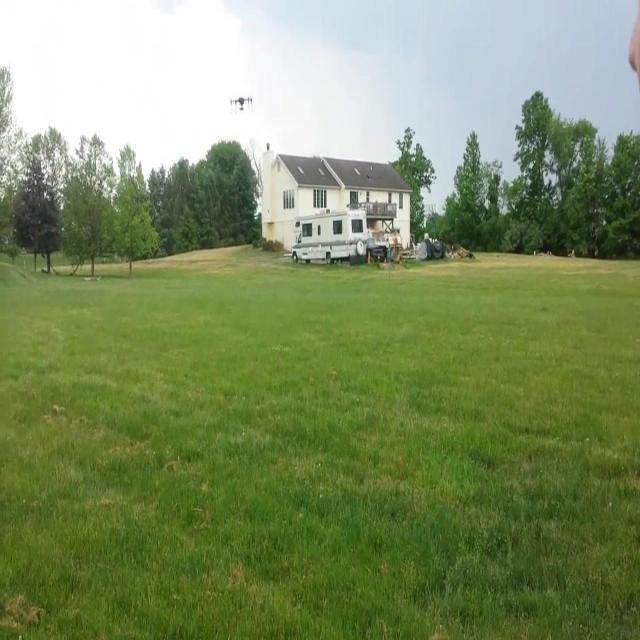drone: (228, 92, 254, 116)
